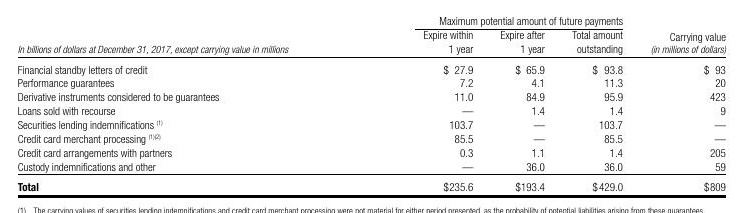table: (0, 0, 745, 213)
